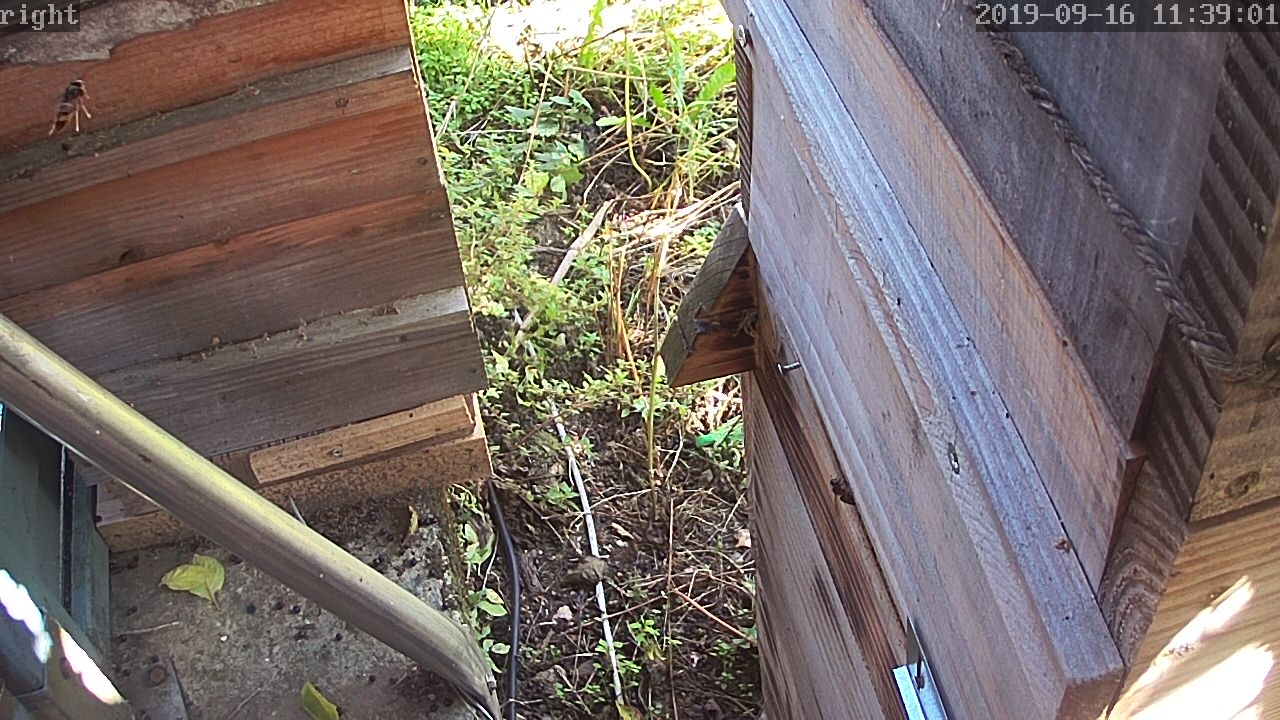bee: (818, 472, 856, 506)
hornet: (41, 67, 93, 136)
